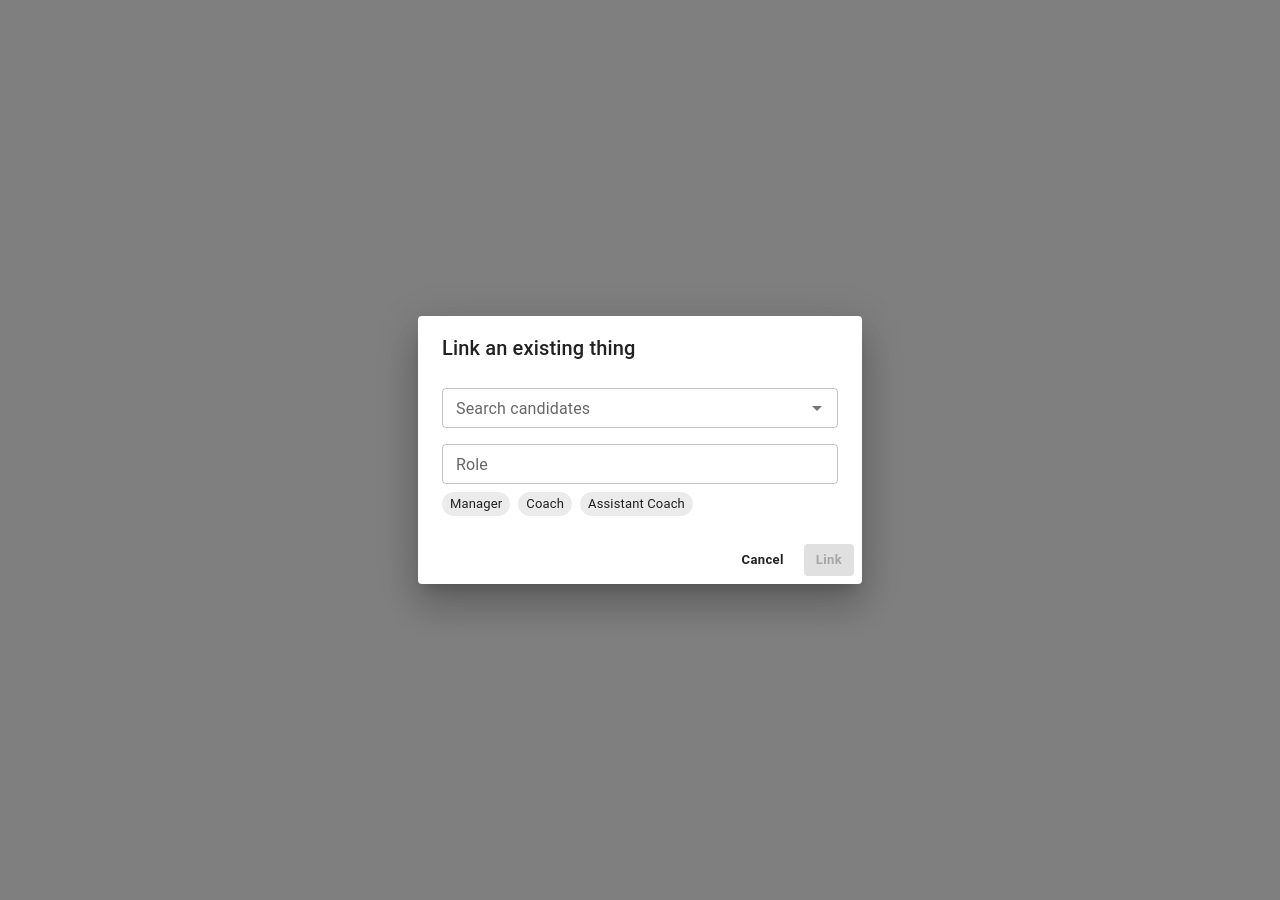
LinkExistingRecordDialog › with an extraField (select-then-confirm mode) › a quick-fill option populates the extra field without submitting, and can still be edited
Click the button "Coach" at [545, 504], box [518,492,572,516]
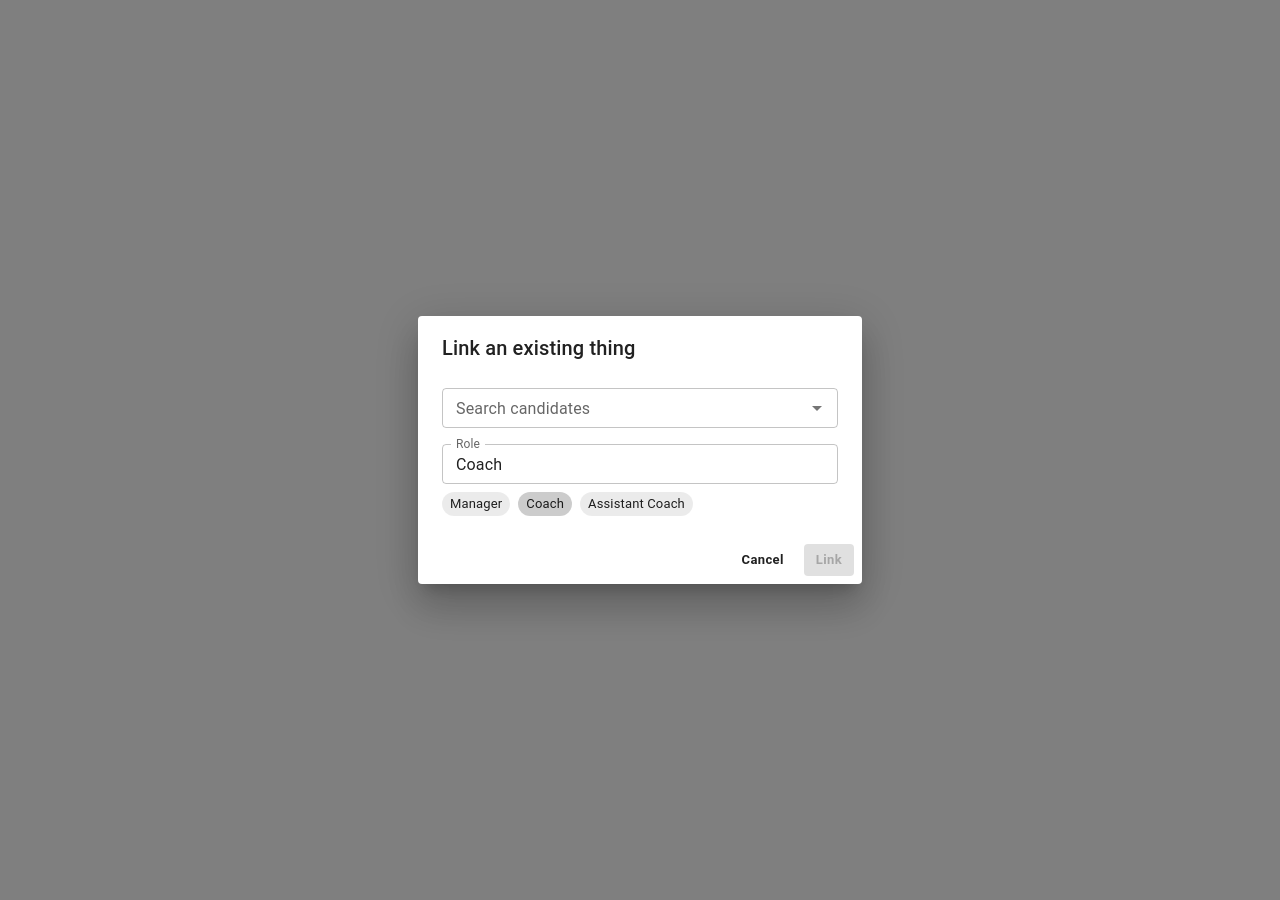
Expected: the button "Link" is disabled, [804,544,854,576]
Expected: the field labelled "Role" holds "Coach"
Type " (interim)" into the field labelled "Role" at [640, 464], box [442,444,838,484]
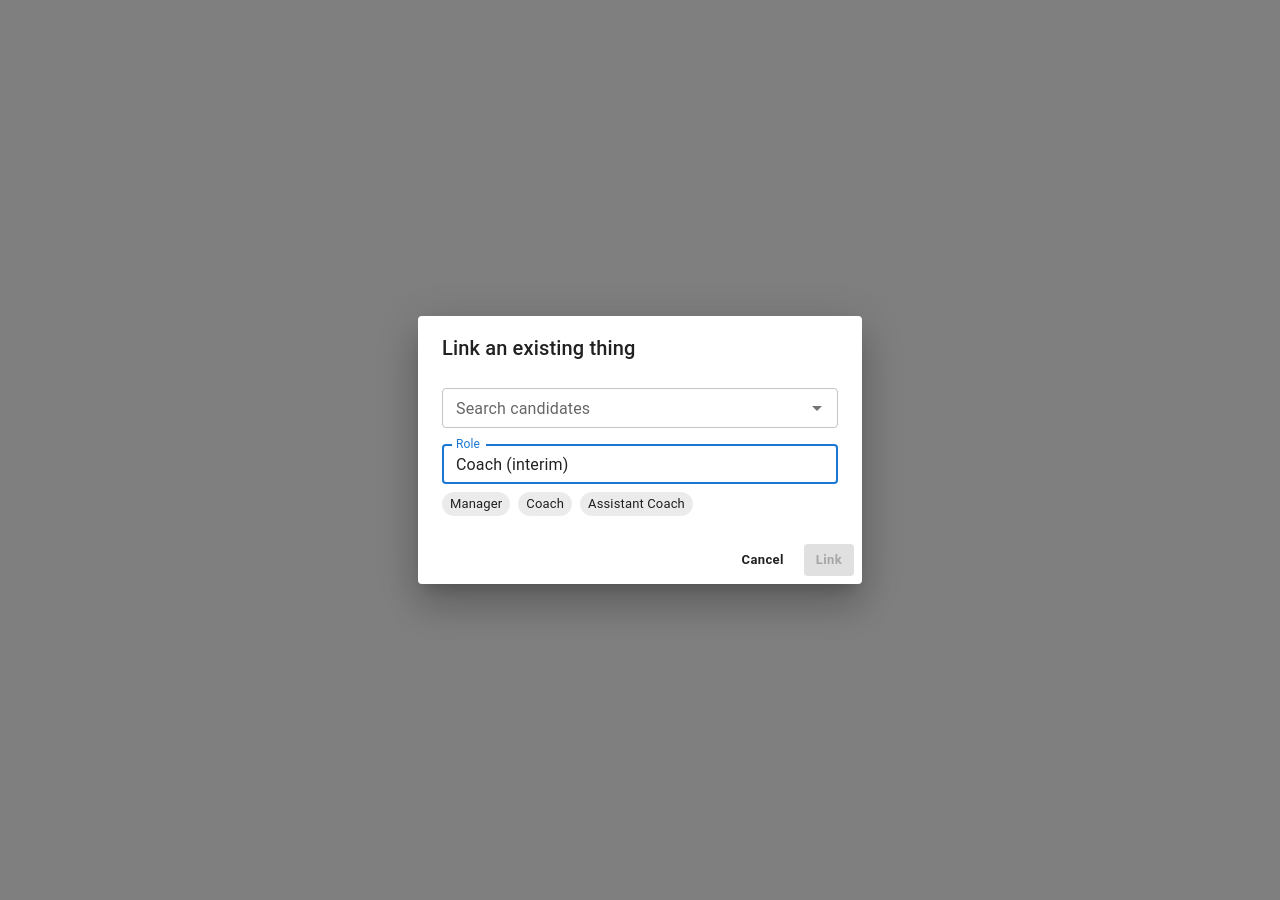
Expected: the field labelled "Role" holds "Coach (interim)", [442,444,838,484]
